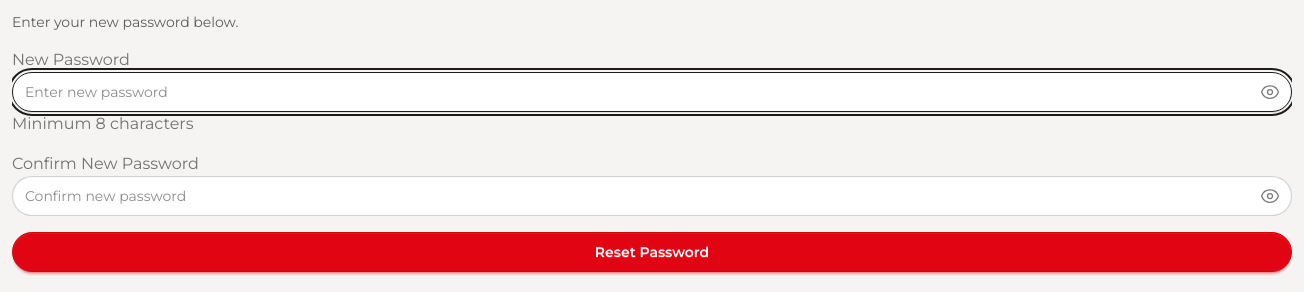
Test case: ResetPasswordForm › should show validation error for short password
The width and height of the screenshot is (1304, 292).
In the password field with placeholder "Enter new password": (652,92) [12, 72, 1292, 112], type "short"
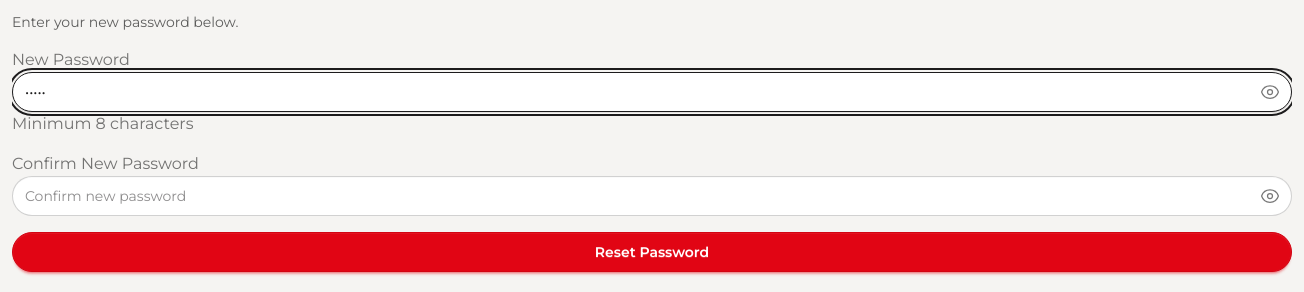
In the password field with placeholder "Confirm New Password": (652,196) [12, 176, 1292, 216], type "short"
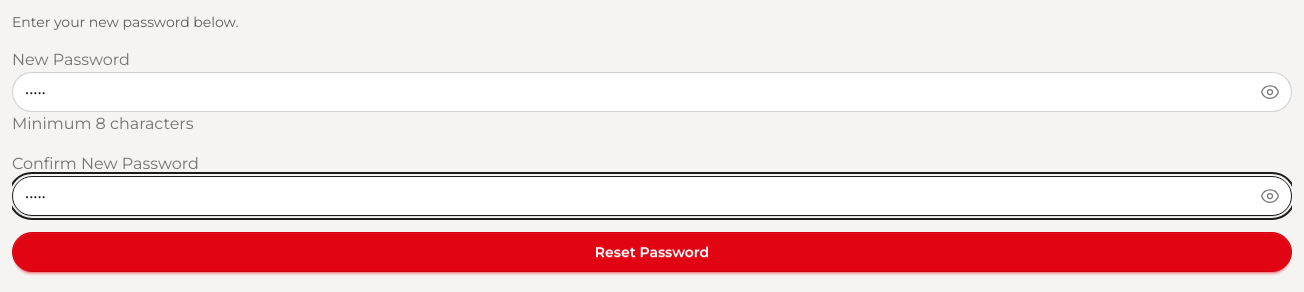
Click the button "Reset Password": (652,252) [12, 232, 1292, 272]
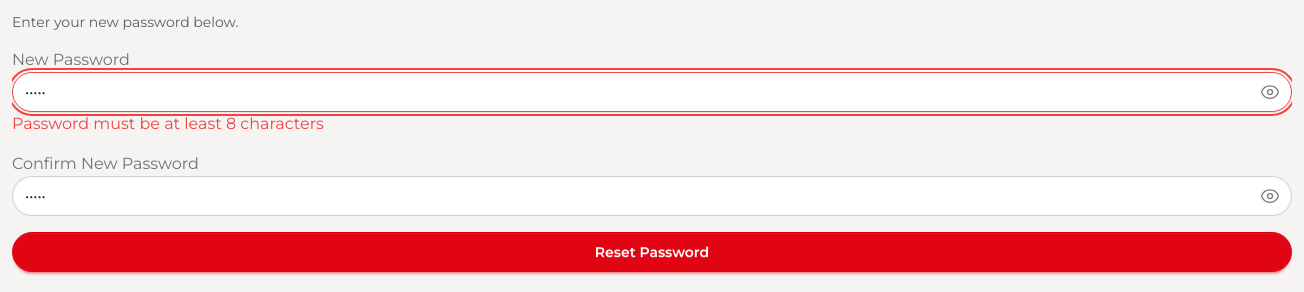
Now the text "Password must be at least 8 characters" is shown, box [12, 112, 324, 136]
